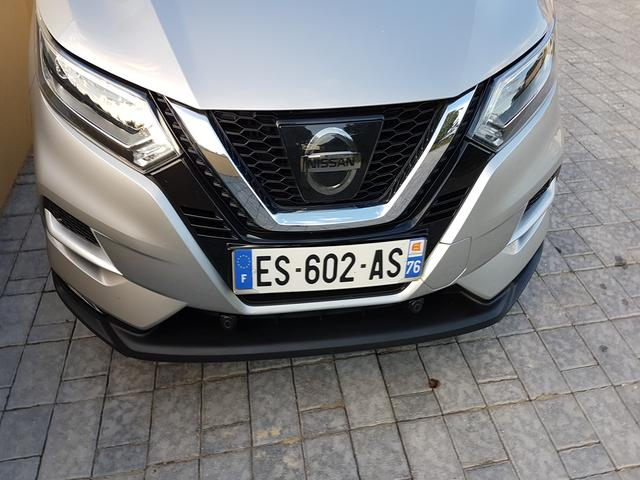Quashquai: (220, 217, 448, 306)
